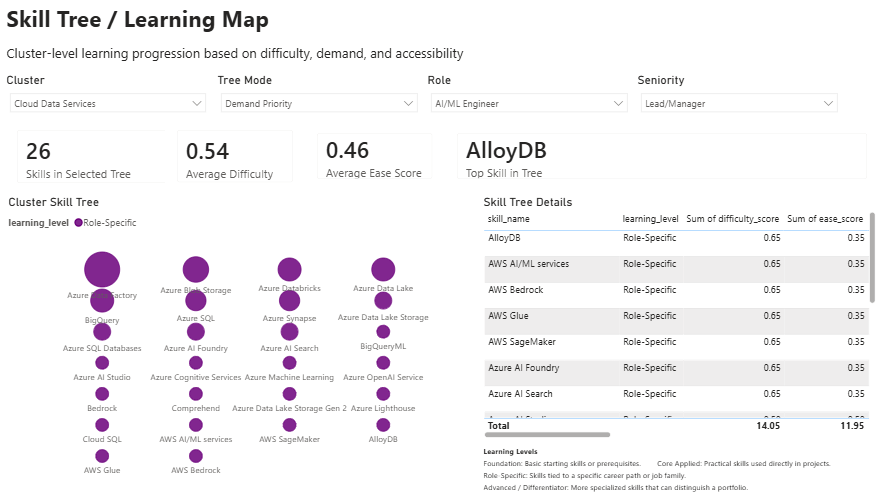

Layout of this report page (visuals, bound fields, positions):
{"tool":"powerbi","page":{"name":"Skill Tree","canvas":[1280,720],"ordinal":3},"visuals":[{"type":"textbox","box":[10.1,0,461.9,58.8],"z":0},{"type":"textbox","box":[10.1,58.8,682,47],"z":1000},{"type":"slicer","title":"Cluster","fields":{"Values":["skill_tree_nodes.cluster_name"]},"box":[10.1,105.8,300,80.6],"z":2000},{"type":"slicer","title":"Tree Mode","fields":{"Values":["skill_tree_nodes.tree_mode"]},"box":[310.8,105.8,300.7,79],"z":3000},{"type":"slicer","title":"Role","fields":{"Values":["jobs_enriched.standardized_role"]},"box":[611.4,105.8,300.7,79],"z":4000},{"type":"slicer","title":"Seniority","fields":{"Values":["jobs_enriched.seniority_level_for_scoring"]},"box":[912.1,105.8,300.7,79],"z":5000},{"type":"cardVisual","fields":{"Data":["_Measures.Skills in Selected Tree"]},"box":[13.4,169.8,250,110],"z":6000},{"type":"cardVisual","fields":{"Data":["_Measures.Top Skill in Tree"]},"box":[640.9,174.6,620.8,100.4],"z":7000},{"type":"cardVisual","fields":{"Data":["_Measures.Average Difficulty"]},"box":[241,170,200.9,109.6],"z":8000},{"type":"cardVisual","fields":{"Data":["_Measures.Average Ease Score"]},"box":[441.9,174.6,199,100.4],"z":9000},{"type":"scatterChart","title":"Cluster Skill Tree","fields":{"X":["Sum(skill_tree_nodes.tree_x)"],"Y":["Sum(skill_tree_nodes.Tree Y Display)"],"Size":["Sum(skill_tree_nodes.demand_score)"],"Series":["skill_tree_nodes.learning_level"],"Category":["skill_tree_nodes.skill_name"]},"box":[12.8,279.4,679.3,423.6],"z":10000},{"type":"tableEx","title":"Skill Tree Details","fields":{"Values":["skill_tree_nodes.skill_name","skill_tree_nodes.learning_level","Sum(skill_tree_nodes.difficulty_score)","Sum(skill_tree_nodes.ease_score)","Sum(skill_tree_nodes.demand_score)","Sum(skill_tree_nodes.universality_score)","Sum(skill_tree_nodes.skill_tree_score)","Sum(skill_tree_nodes.priority_rank)","skill_tree_nodes.learning_rationale"]},"box":[692,279.4,569.7,352.4],"z":12000},{"type":"textbox","box":[692,631.8,569.7,87.6],"z":13000}]}

Visuals, with their boxes in screenshot pixels (x1, y1, x2, y2), scaled from the page's 1280x720 canvas onto the 890x501 screenshot:
textbox: (7,0,328,41)
textbox: (7,41,481,74)
"Cluster" slicer: (7,74,216,130)
"Tree Mode" slicer: (216,74,425,129)
"Role" slicer: (425,74,634,129)
"Seniority" slicer: (634,74,843,129)
cardVisual - _Measures.Skills in Selected Tree: (9,118,183,195)
cardVisual - _Measures.Top Skill in Tree: (446,121,877,191)
cardVisual - _Measures.Average Difficulty: (168,118,307,195)
cardVisual - _Measures.Average Ease Score: (307,121,446,191)
"Cluster Skill Tree" scatterChart: (9,194,481,489)
"Skill Tree Details" tableEx: (481,194,877,440)
textbox: (481,440,877,500)
